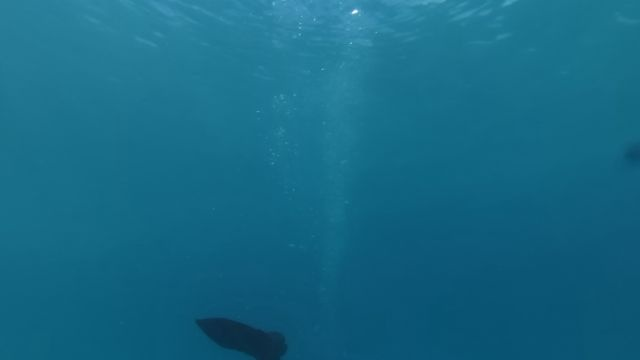Diver: (181, 310, 294, 355)
